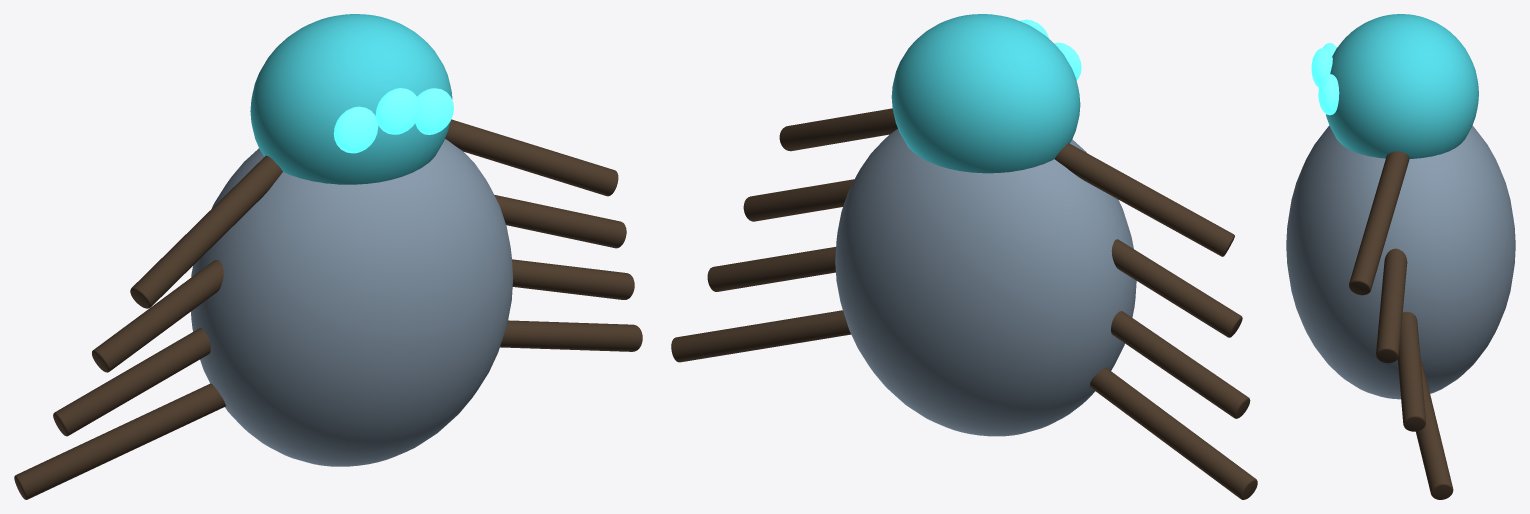
Rendered from arachnid_v2.glb.
3 renders of one model, left to right at view 1: azimuth 30°, elevation 25°; view 2: azimuth 150°, elevation 25°; view 3: azimuth 270°, elevation 25°, orthographic. The views are drawn at different scales.
Parts seen in each view (by area): view 1: SPIDER_ABDOMEN_PRIMARY, SPIDER_HEAD_ACCENT, SPIDER_LEG_SECONDARY.006, SPIDER_LEG_SECONDARY, SPIDER_LEG_SECONDARY.001, SPIDER_LEG_SECONDARY.004, SPIDER_LEG_SECONDARY.002, SPIDER_LEG_SECONDARY.007, SPIDER_LEG_SECONDARY.003, SPIDER_LEG_SECONDARY.005, EYE_EMISSIVE.001, EYE_EMISSIVE (+1 smaller); view 2: SPIDER_ABDOMEN_PRIMARY, SPIDER_HEAD_ACCENT, SPIDER_LEG_SECONDARY.006, SPIDER_LEG_SECONDARY, SPIDER_LEG_SECONDARY.007, SPIDER_LEG_SECONDARY.004, SPIDER_LEG_SECONDARY.002, SPIDER_LEG_SECONDARY.005, SPIDER_LEG_SECONDARY.001, SPIDER_LEG_SECONDARY.003; view 3: SPIDER_ABDOMEN_PRIMARY, SPIDER_HEAD_ACCENT, SPIDER_LEG_SECONDARY.001, SPIDER_LEG_SECONDARY.003, SPIDER_LEG_SECONDARY.005, SPIDER_LEG_SECONDARY.007, EYE_EMISSIVE.002, EYE_EMISSIVE.001.
Part boxes in pixels (x1,y1,x2,y2): SPIDER_ABDOMEN_PRIMARY: (191,139,513,466); SPIDER_HEAD_ACCENT: (250,14,452,184); SPIDER_LEG_SECONDARY.006: (14,383,225,499); SPIDER_LEG_SECONDARY: (130,155,282,308); SPIDER_LEG_SECONDARY.001: (445,119,618,196); SPIDER_LEG_SECONDARY.004: (53,328,210,436); SPIDER_LEG_SECONDARY.002: (92,260,223,372); SPIDER_LEG_SECONDARY.007: (500,320,642,351); SPIDER_LEG_SECONDARY.003: (494,195,626,248); SPIDER_LEG_SECONDARY.005: (512,259,634,299); EYE_EMISSIVE.001: (375,88,420,134); EYE_EMISSIVE: (333,106,378,153); SPIDER_ABDOMEN_PRIMARY: (835,129,1136,436); SPIDER_HEAD_ACCENT: (891,14,1080,173); SPIDER_LEG_SECONDARY.006: (1089,368,1257,499); SPIDER_LEG_SECONDARY: (1054,143,1234,256); SPIDER_LEG_SECONDARY.007: (671,310,851,362); SPIDER_LEG_SECONDARY.004: (1111,311,1250,418); SPIDER_LEG_SECONDARY.002: (1111,239,1242,337); SPIDER_LEG_SECONDARY.005: (707,247,835,291); SPIDER_LEG_SECONDARY.001: (779,108,897,151); SPIDER_LEG_SECONDARY.003: (743,179,854,221); SPIDER_ABDOMEN_PRIMARY: (1286,125,1515,399); SPIDER_HEAD_ACCENT: (1326,14,1478,158); SPIDER_LEG_SECONDARY.001: (1349,151,1409,295); SPIDER_LEG_SECONDARY.003: (1376,248,1407,363); SPIDER_LEG_SECONDARY.005: (1397,311,1425,431); SPIDER_LEG_SECONDARY.007: (1416,360,1453,499); EYE_EMISSIVE.002: (1318,74,1339,115); EYE_EMISSIVE.001: (1311,48,1332,87).
Bounding box in the file's own units: 2.63 × 1.75 × 1.
